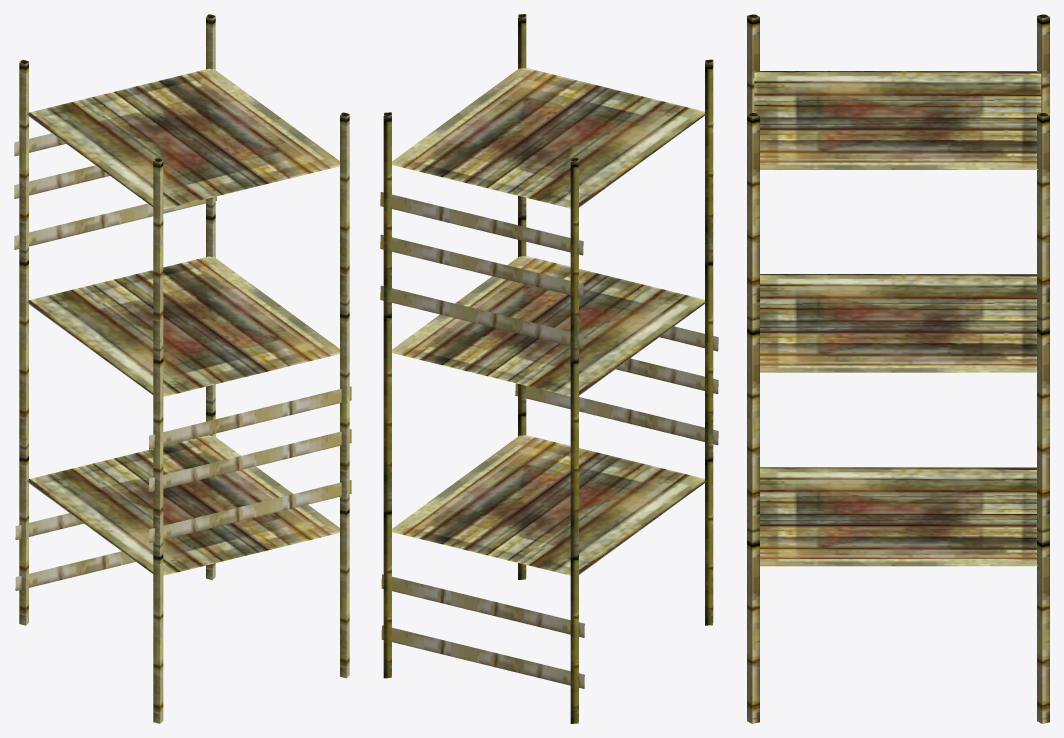
Rendered from Environment - Prop - Bamboo Pole Tower - PMbampltr.glb.
The picture shows the model from 3 angles, left to right: view 1: azimuth 30°, elevation 25°; view 2: azimuth 150°, elevation 25°; view 3: azimuth 270°, elevation 25°; orthographic projection. The views are drawn at different scales.
Parts seen in each view (by area): view 1: PMBAMPLTR; view 2: PMBAMPLTR; view 3: PMBAMPLTR.
Boxes of the visible parts, bbox=[...] form: PMBAMPLTR: bbox=[14, 14, 351, 723]; PMBAMPLTR: bbox=[380, 14, 718, 723]; PMBAMPLTR: bbox=[747, 14, 1049, 723].
Bounding box in the file's own units: 12.98 × 34.43 × 15.58.
Materials: 1 (1 with a texture image).
